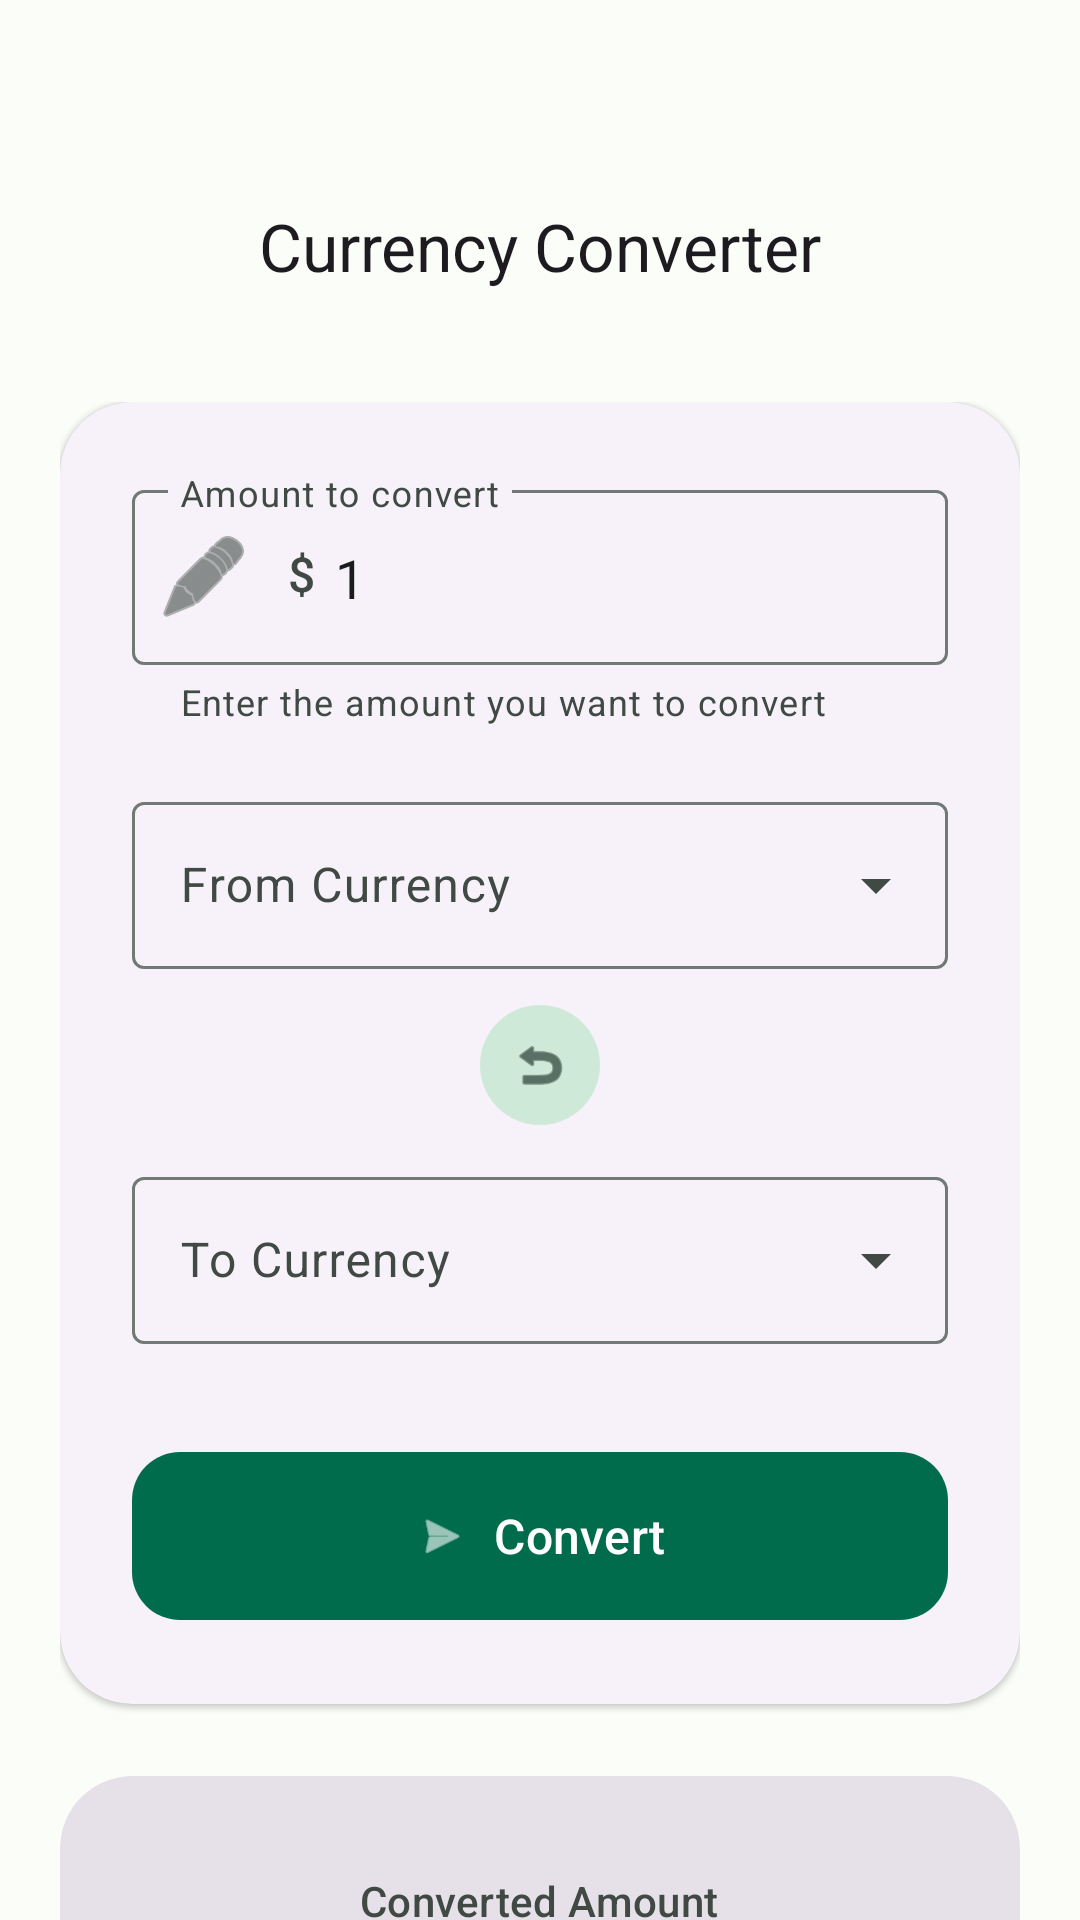

Screen size 1080 × 1920. Icon name, then its center in pixels as (x,y):
revert: (540,1065)
